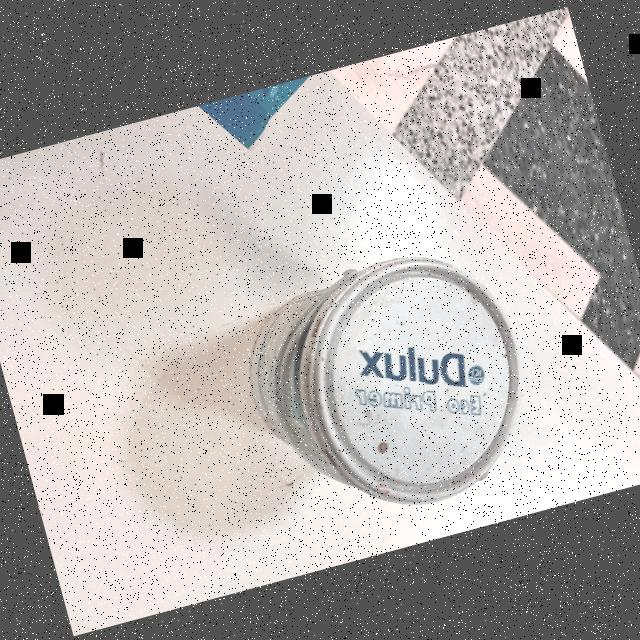paint_bucket: (224, 224, 554, 538)
